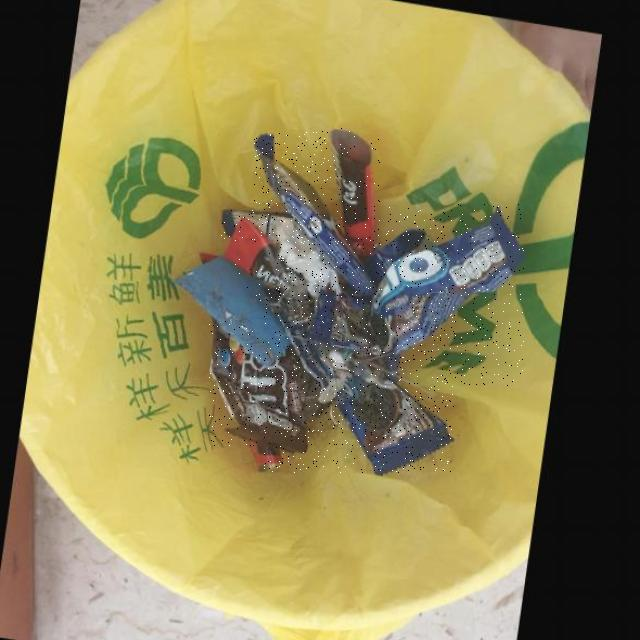paper: (277, 216, 341, 297)
wrapper: (310, 204, 524, 387), (262, 285, 454, 473), (254, 131, 380, 301), (209, 321, 322, 447), (329, 127, 377, 259), (223, 216, 301, 288), (222, 209, 291, 240)
